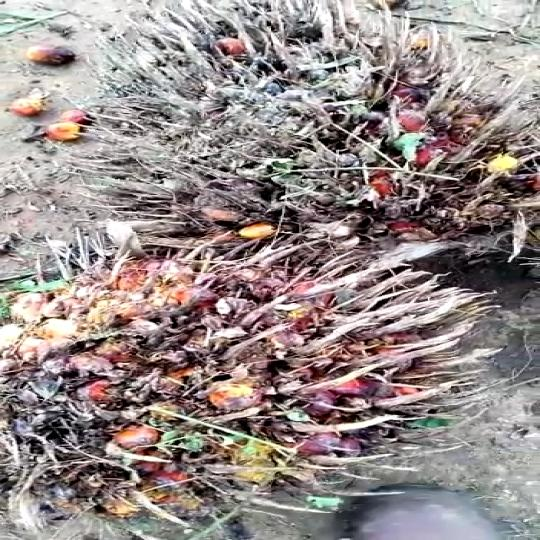terlalu masak: (0, 230, 478, 525), (80, 0, 540, 285)
